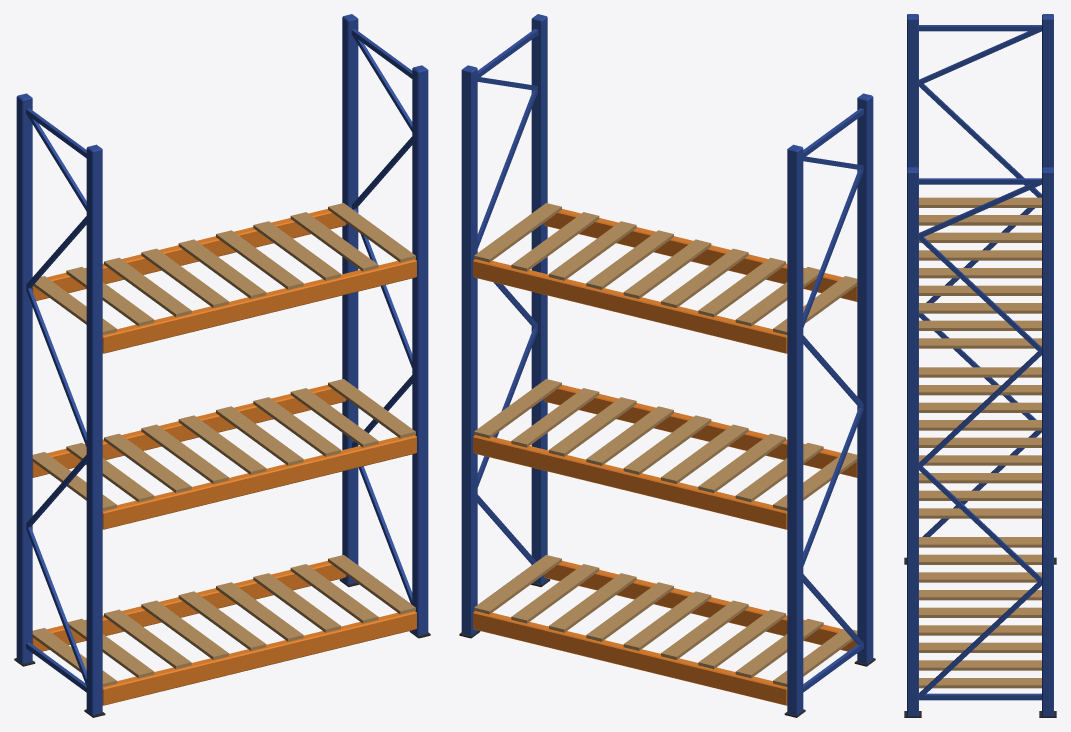
File: rack_bay.glb
The picture shows the model from 3 angles, left to right: view 1: azimuth 30°, elevation 25°; view 2: azimuth 150°, elevation 25°; view 3: azimuth 270°, elevation 25°; orthographic projection. The views are drawn at different scales.
Visible parts, largest first — view 1: Rack; view 2: Rack; view 3: Rack.
Boxes of the visible parts, bbox=[...] form: Rack: bbox=[14, 14, 430, 717]; Rack: bbox=[459, 14, 875, 717]; Rack: bbox=[904, 14, 1056, 717].
Size of what is drawn, in the model's own units: 2.81 by 4.5 by 1.14.
